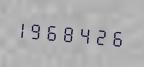eight: (62, 19, 76, 47)
four: (77, 20, 91, 48)
nine: (32, 16, 46, 44)
one: (17, 15, 31, 43)
six: (47, 17, 61, 46), (107, 23, 121, 51)
two: (92, 21, 106, 49)
